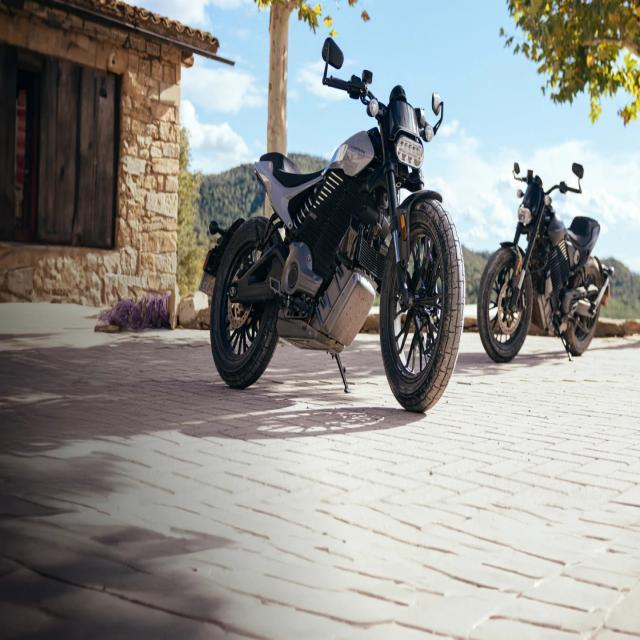motorcycle: (198, 35, 466, 413), (476, 160, 614, 363)
